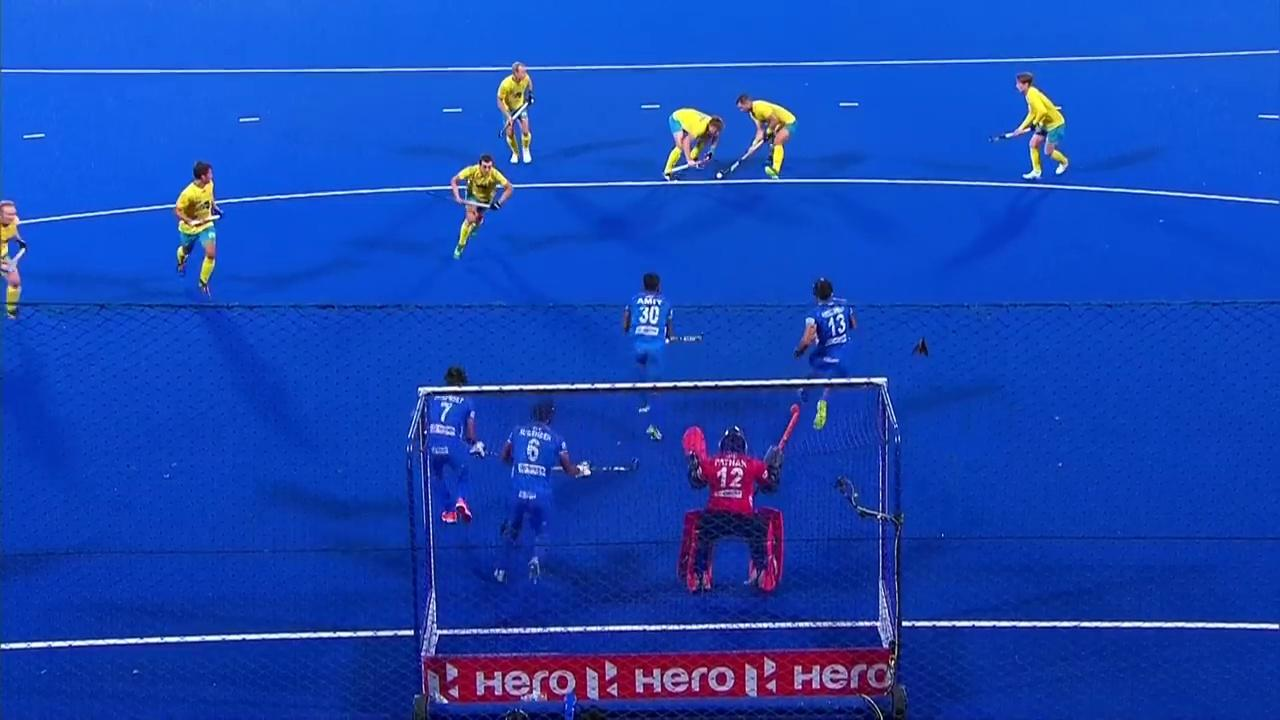ball: (711, 168, 727, 185)
